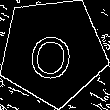O_N: (27, 22, 79, 80)
